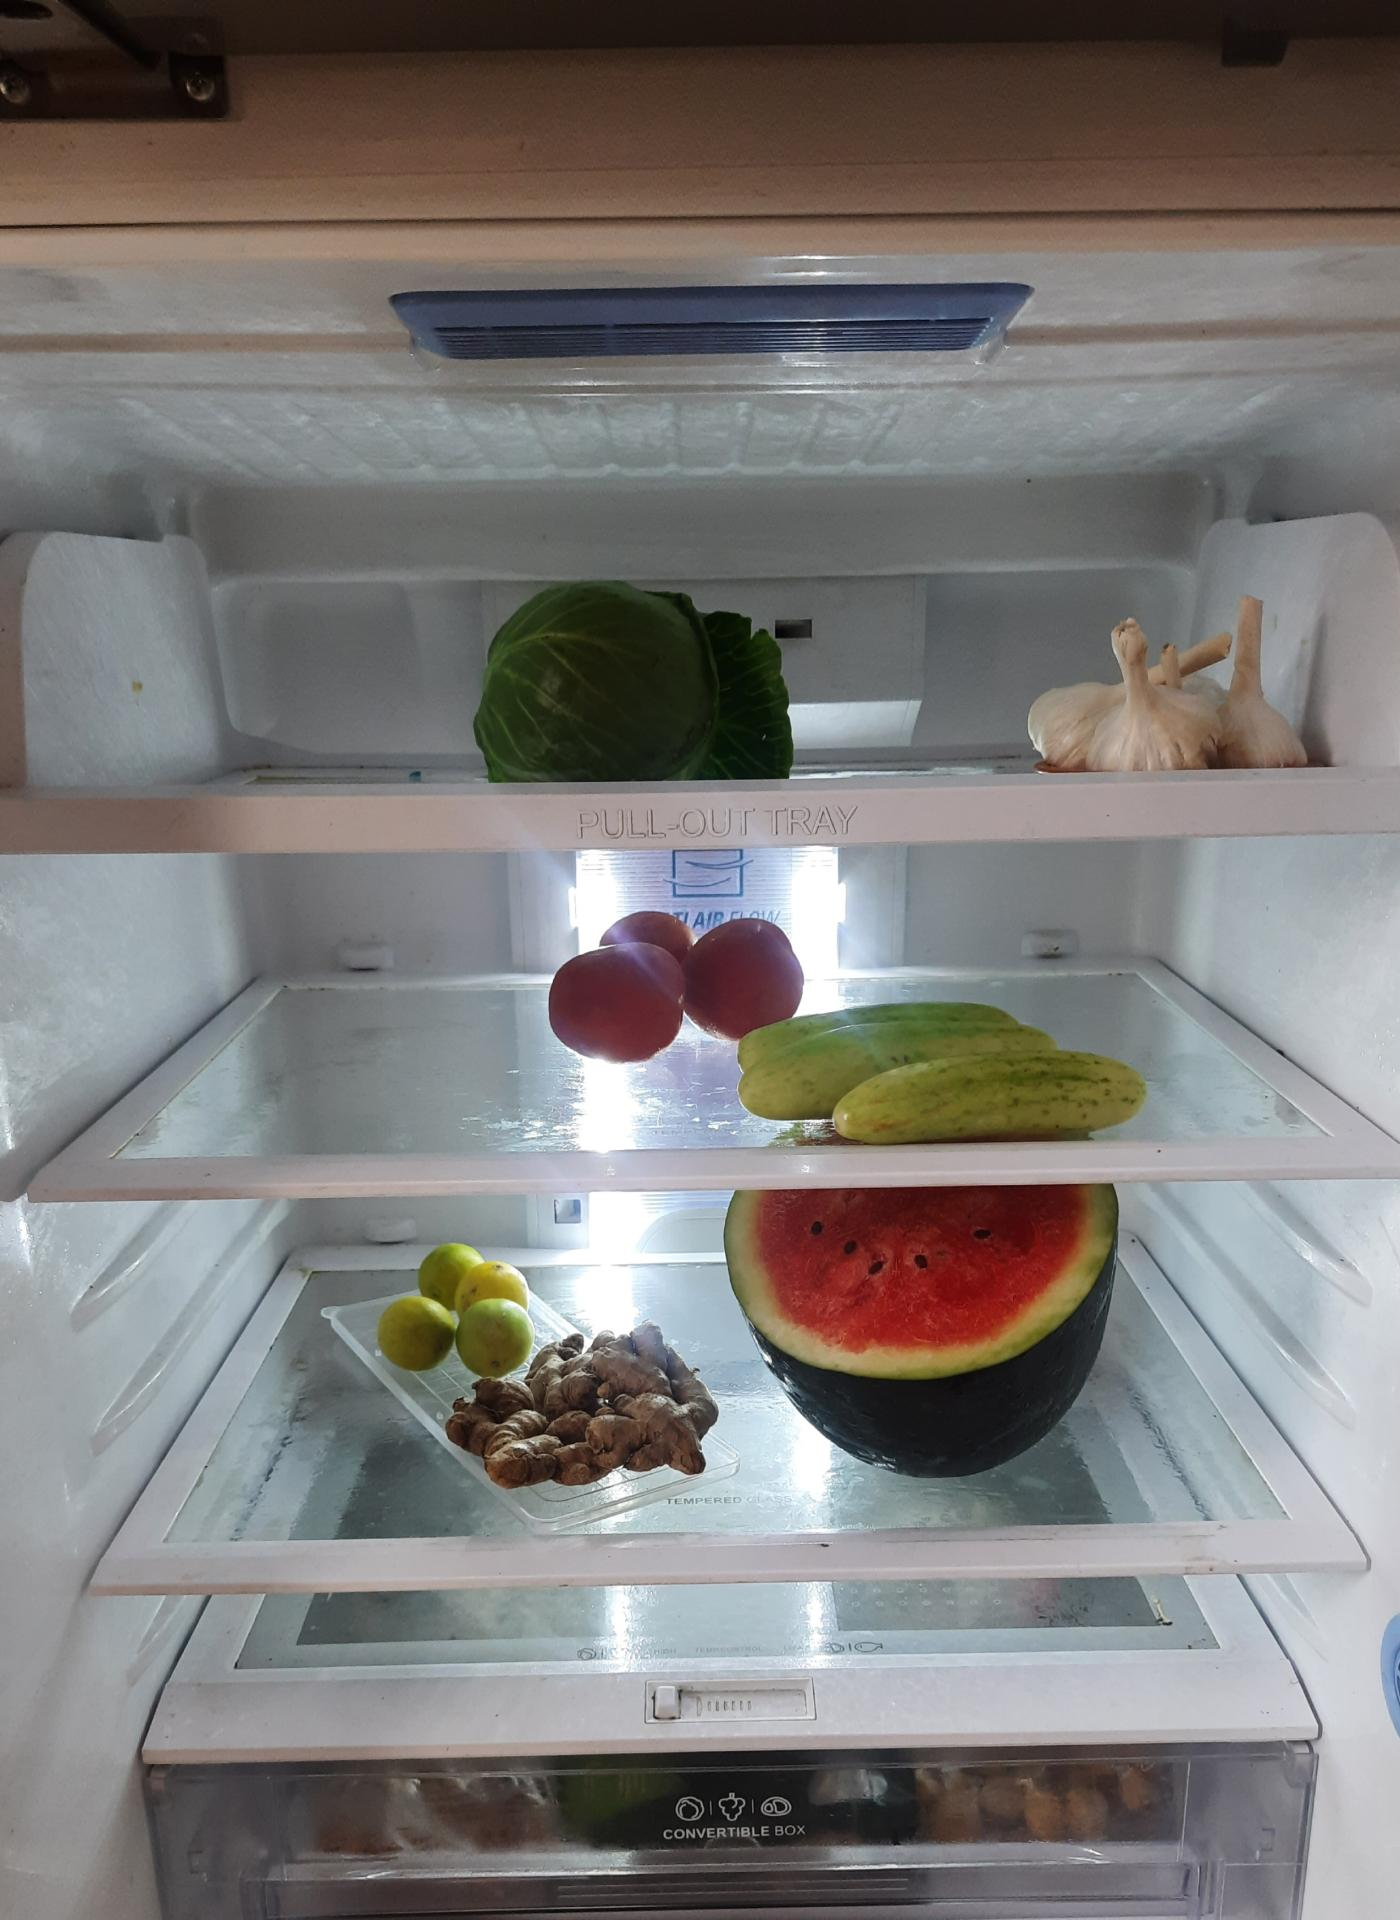cabbage: (462, 577, 783, 777)
cucumber: (735, 1002, 1142, 1140)
garlic: (1029, 595, 1309, 775)
ginger: (449, 1327, 720, 1488)
lemon: (379, 1243, 538, 1376)
tomato: (549, 899, 801, 1051)
watermelon: (731, 1181, 1132, 1476)
